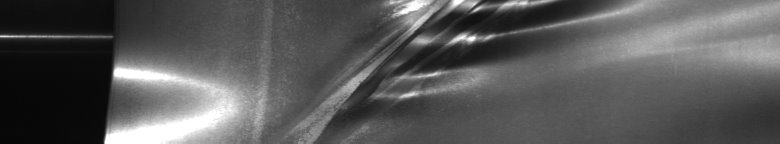ke: (319, 4, 623, 136)
